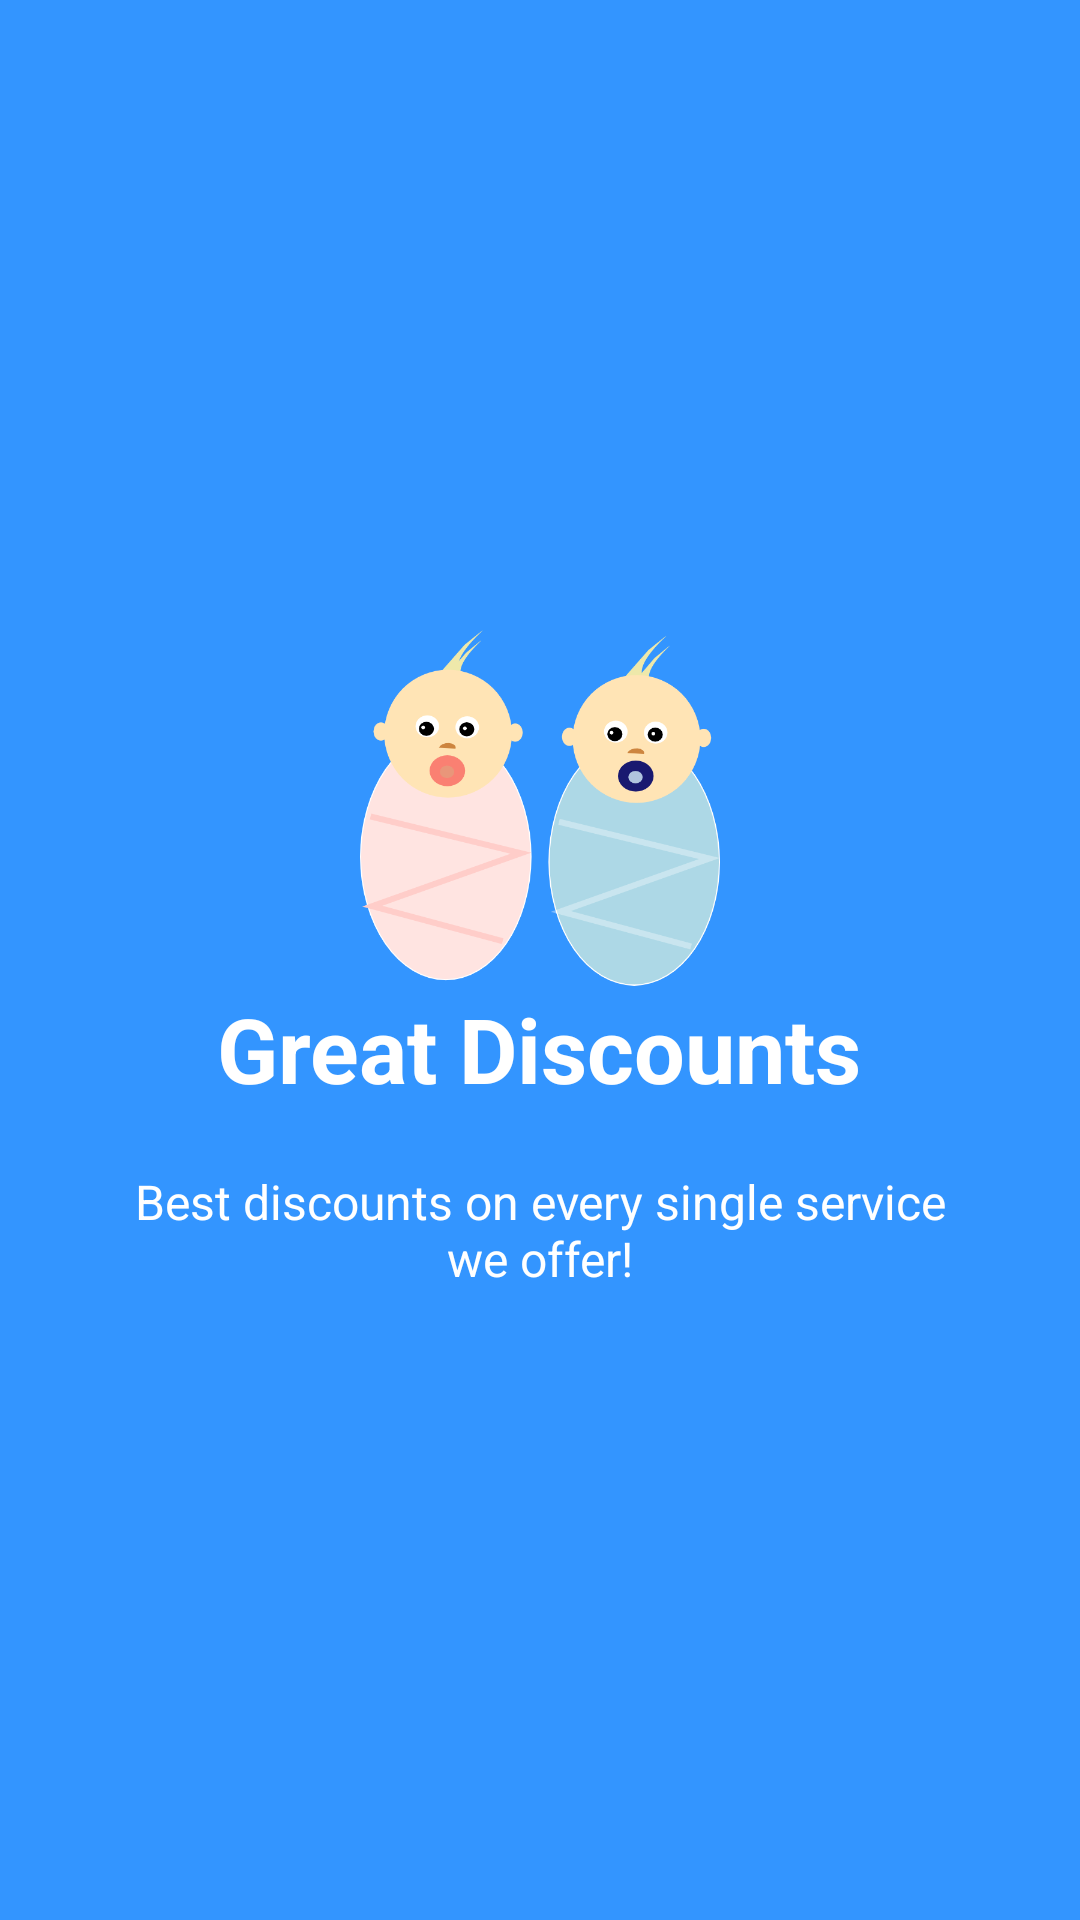

Locate icon controls on the screen. Image size 1080x1920, boxes as (x1, y1, x2, y2).
twins: (360, 631, 720, 986)
